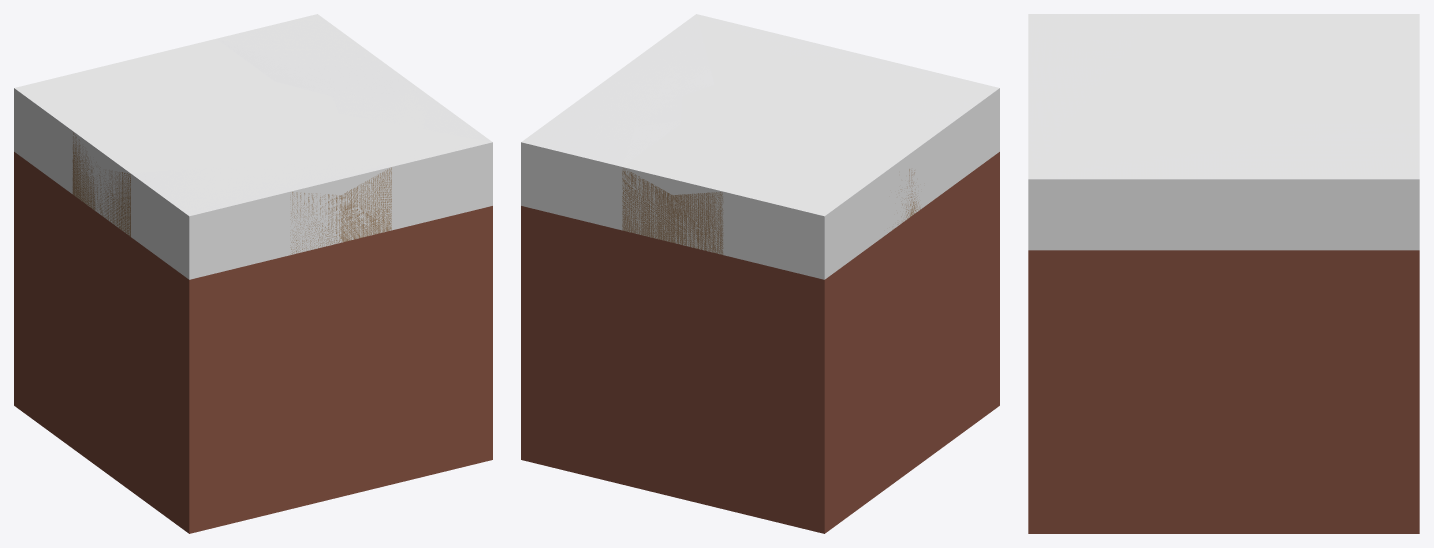
The model's file is ground.glb.
The picture shows the model from 3 angles, left to right: view 1: azimuth 30°, elevation 25°; view 2: azimuth 150°, elevation 25°; view 3: azimuth 270°, elevation 25°; orthographic projection. The views are drawn at different scales.
Parts seen in each view (by area): view 1: Ground_Base, Ground_Road_Straight, Ground_Road_Corner, Ground_Corner; view 2: Ground_Base, Ground_Road_Corner, Ground_Road_Straight, Ground_Corner; view 3: Ground_Base, Ground_Corner, Ground_Road_Corner, Ground_Road_Straight.
Part boxes in pixels (<box>): Ground_Base: <box>14,14,492,533</box>; Ground_Road_Straight: <box>17,15,492,533</box>; Ground_Road_Corner: <box>14,14,492,532</box>; Ground_Corner: <box>15,15,426,532</box>; Ground_Base: <box>521,14,999,533</box>; Ground_Road_Corner: <box>521,14,999,533</box>; Ground_Road_Straight: <box>521,14,995,533</box>; Ground_Corner: <box>522,41,999,215</box>; Ground_Base: <box>1028,14,1419,533</box>; Ground_Corner: <box>1028,14,1419,533</box>; Ground_Road_Corner: <box>1028,14,1419,533</box>; Ground_Road_Straight: <box>1028,14,1419,179</box>.
Bounding box in the file's own units: 2 × 2 × 2.
Materials: 1 (1 with a texture image).
